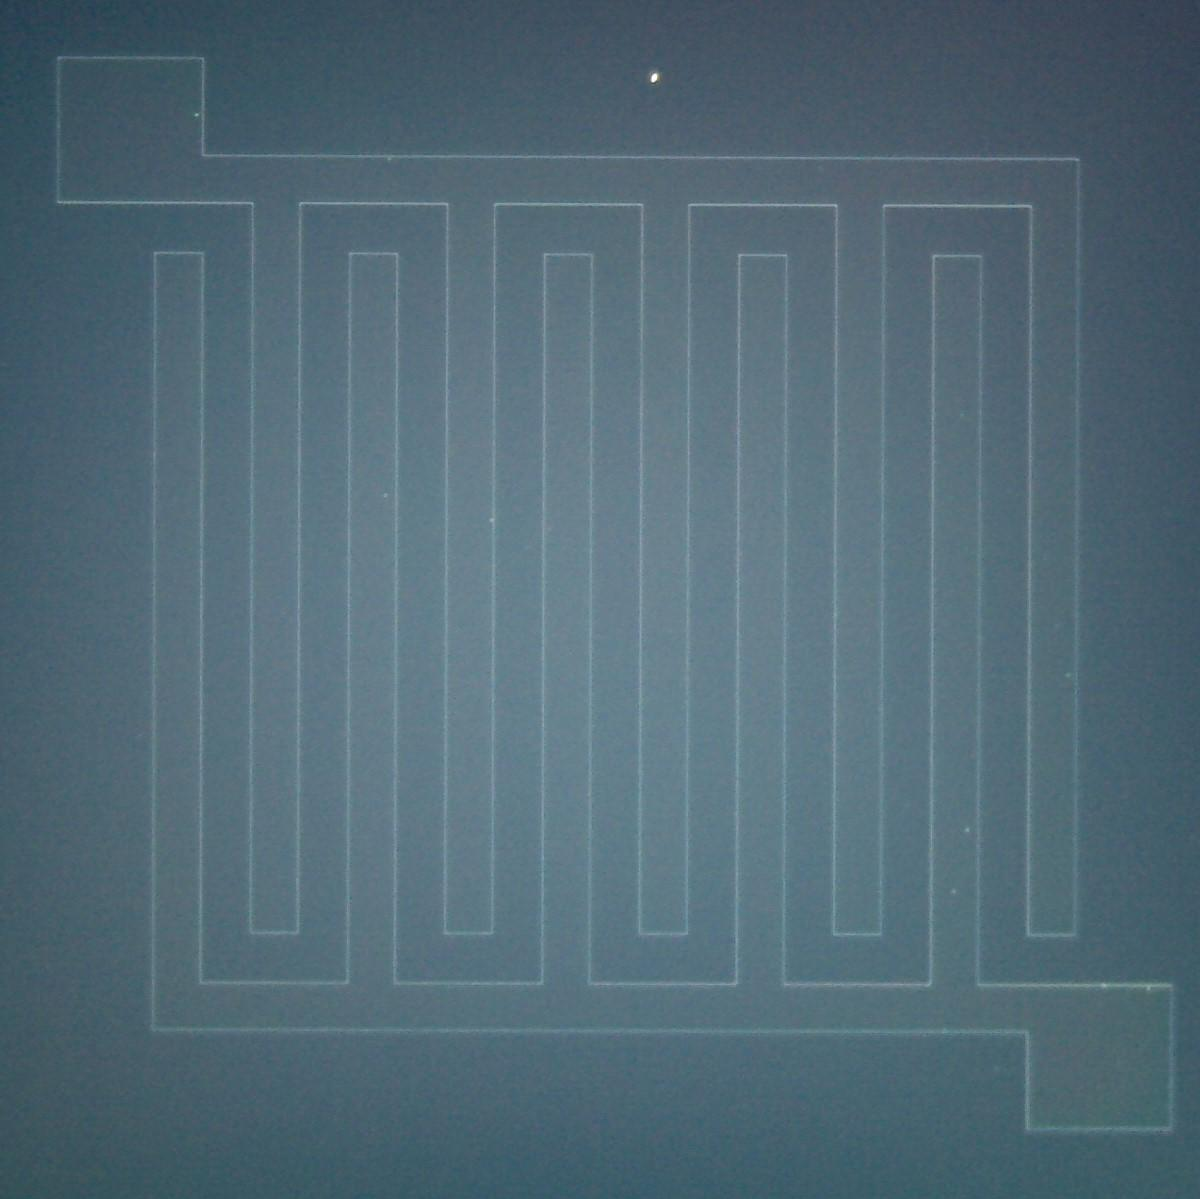B_point: (640, 65, 670, 90)
s_point: (942, 875, 965, 908), (956, 817, 979, 843), (184, 105, 209, 125), (374, 486, 397, 506)
